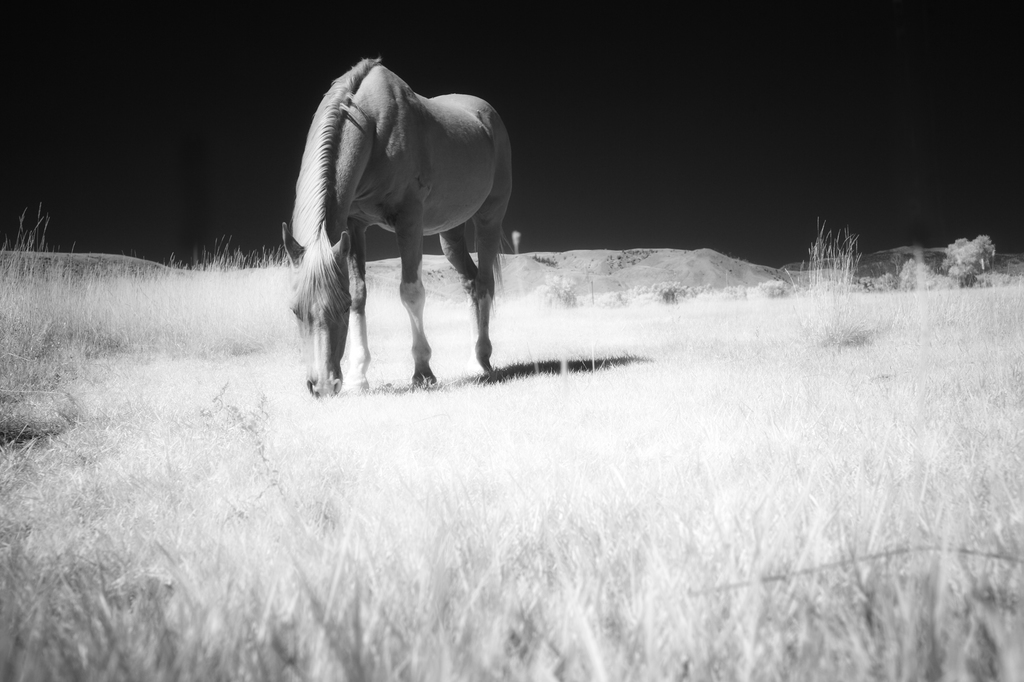horse: (285, 53, 516, 398)
